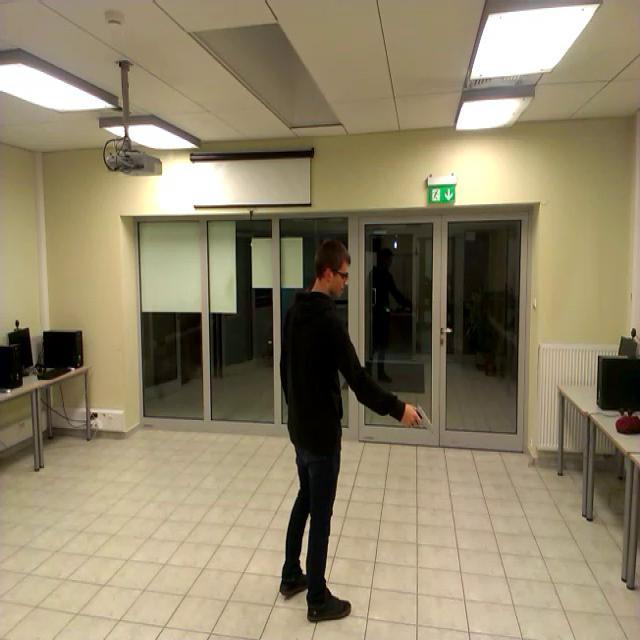handgun: (409, 396, 434, 440)
